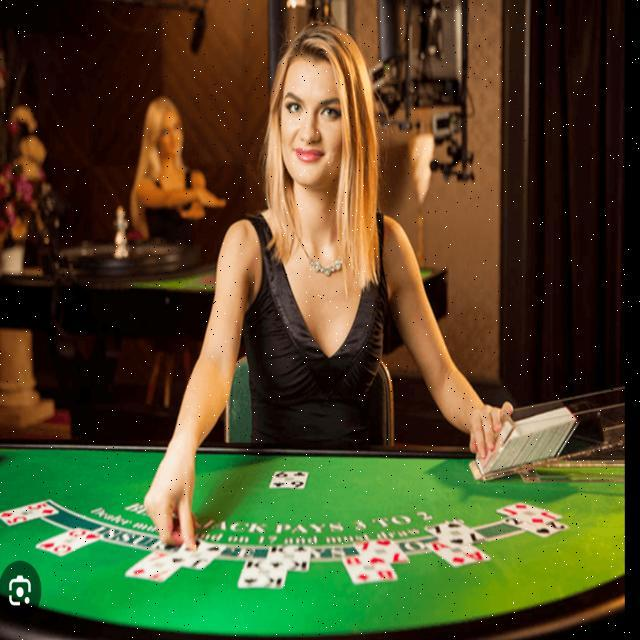Card-2: (502, 517, 570, 538)
Card-5: (0, 500, 59, 526)
Card-6: (269, 469, 309, 488)
Card-7: (124, 548, 181, 582), (424, 519, 486, 549), (354, 539, 409, 566)
Card-8: (340, 555, 397, 584)
Card-A: (425, 540, 491, 569)
Card-J: (496, 501, 562, 528), (168, 540, 227, 569)
Card-K: (238, 557, 287, 589), (267, 546, 311, 571)
Card-Q: (35, 526, 104, 555)
